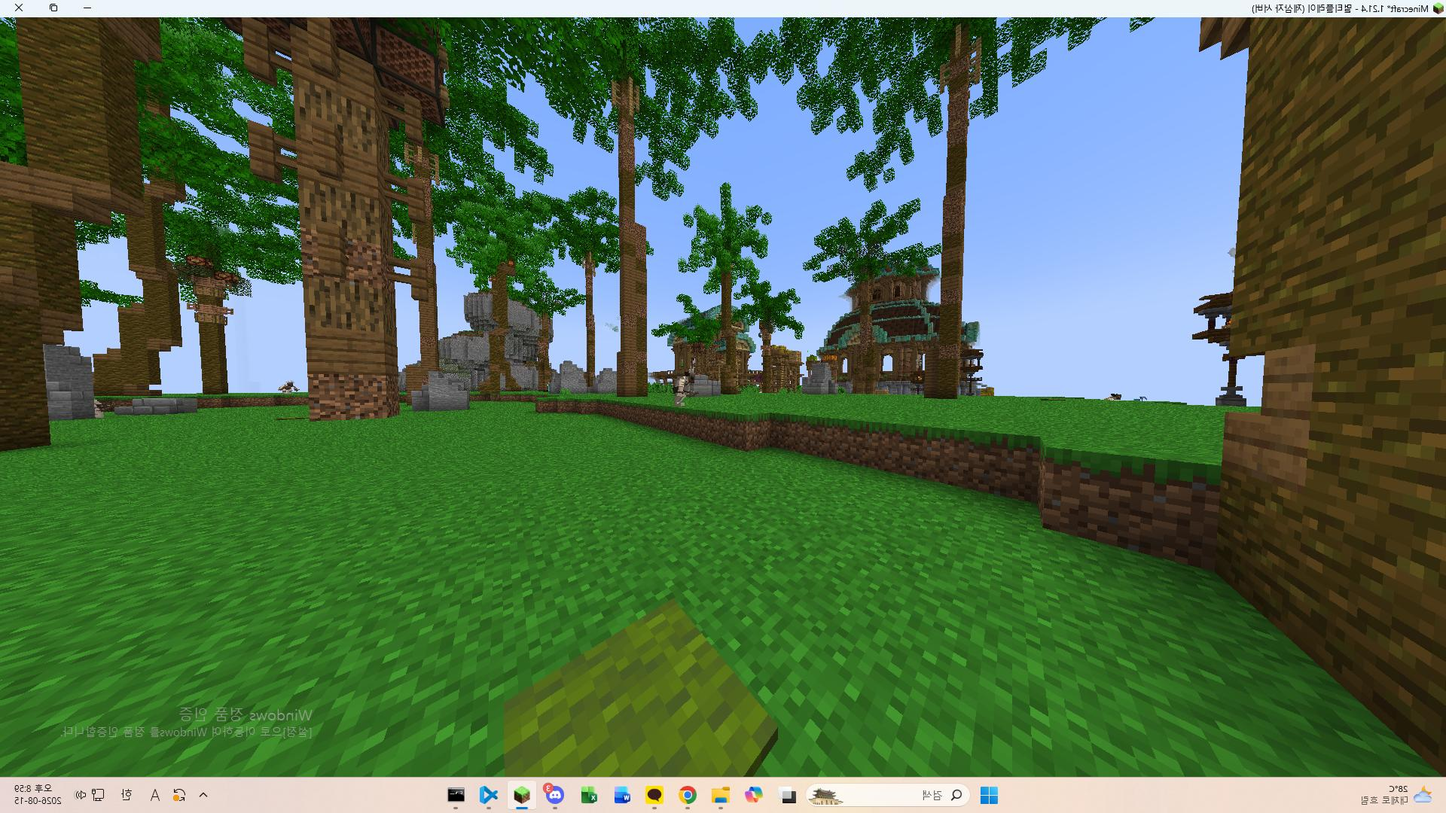bow_indian: (657, 366, 698, 414)
